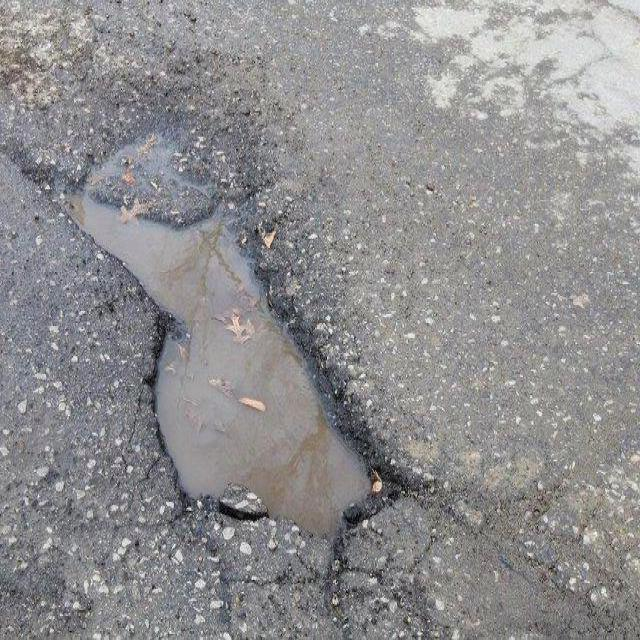jalan retak: (317, 474, 639, 640), (0, 5, 148, 106)
lubang: (29, 147, 410, 571)
